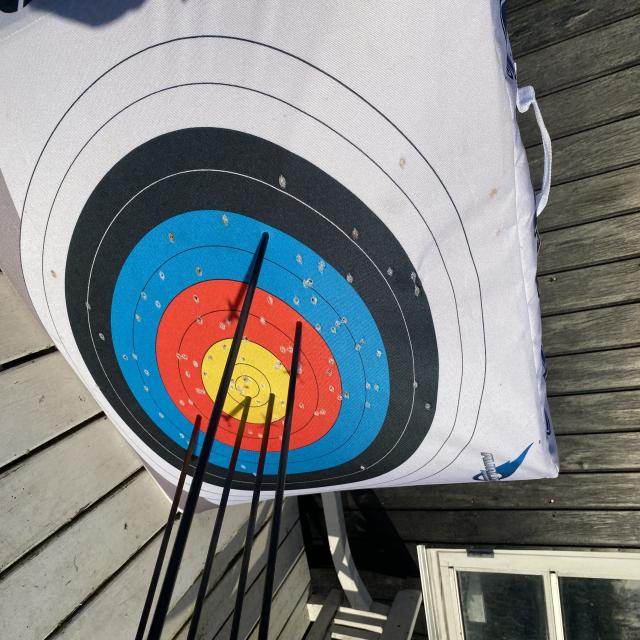Arrow_Blue: (247, 208, 283, 258)
Arrow_Red: (187, 403, 210, 438), (292, 314, 310, 344)
Arrow_Yellow: (240, 381, 258, 422), (261, 380, 280, 417)
